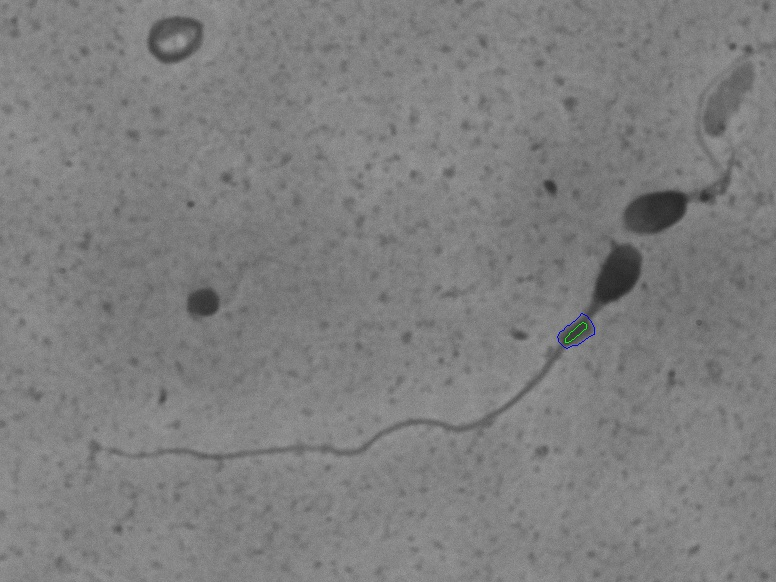Abnormal: (597, 98, 744, 242)
Normal: (81, 234, 657, 500)
